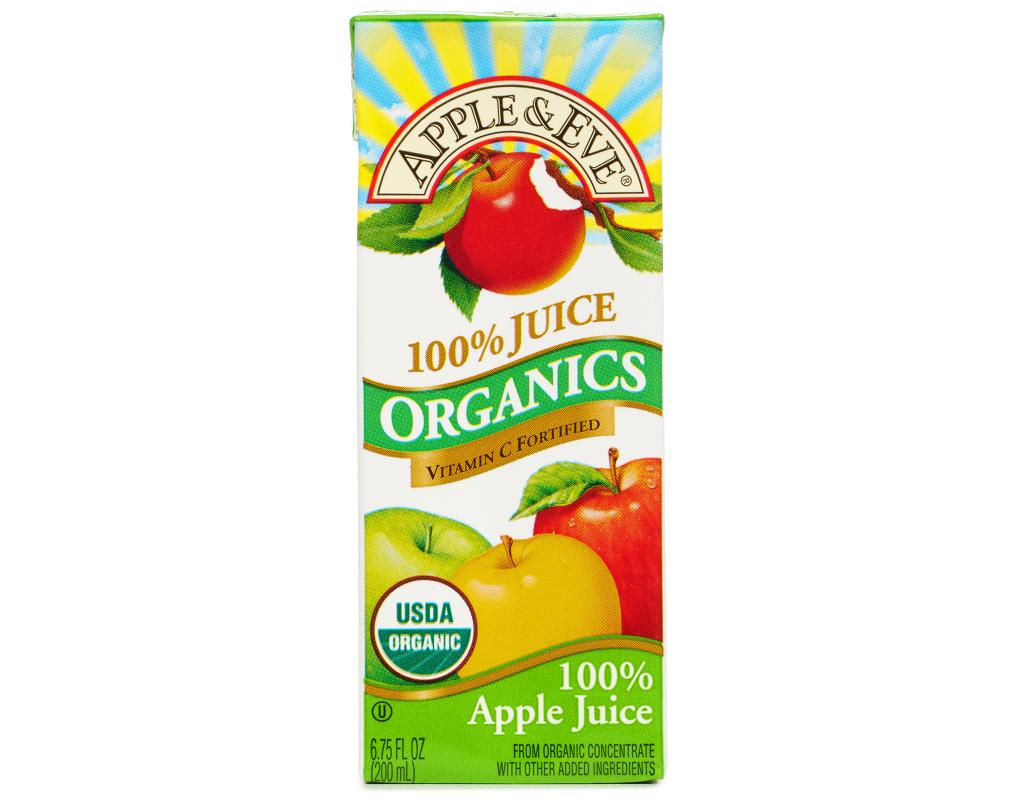Juice_Box: (349, 12, 665, 777)
